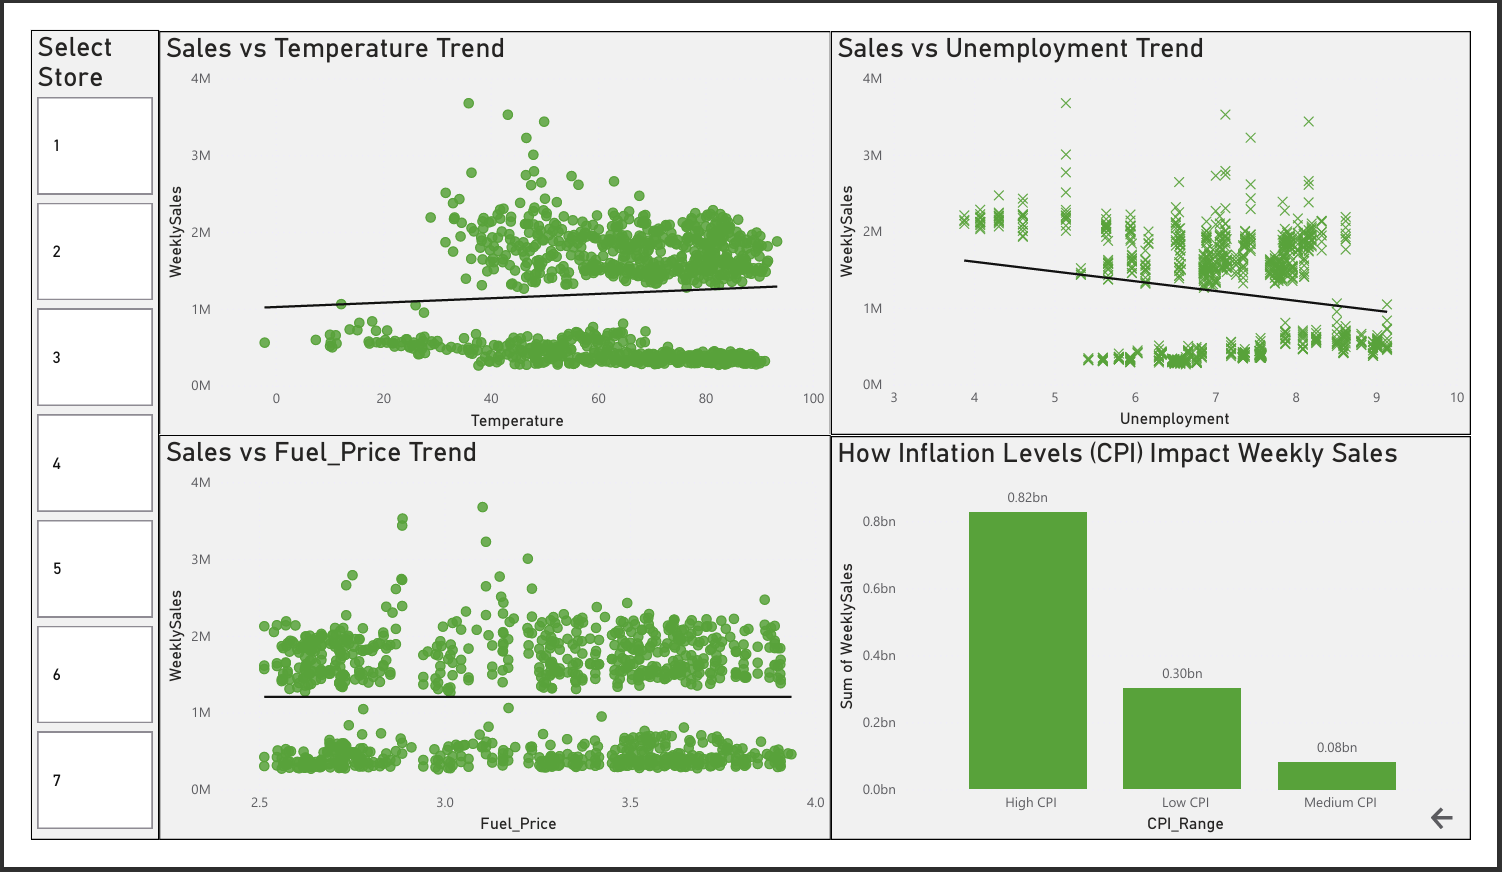

The page's visual inventory and layout, read from the dashboard file:
{"tool":"powerbi","page":{"name":"External Factors Impact","canvas":[1280,720],"ordinal":1},"visuals":[{"type":"scatterChart","title":"Sales vs Temperature Trend","fields":{"X":["cleaned_walmart_sales.Temperature"],"Y":["cleaned_walmart_sales.WeeklySales"]},"box":[113.9,1.4,596.9,359.5],"z":0},{"type":"scatterChart","title":"Sales vs Unemployment Trend","fields":{"X":["cleaned_walmart_sales.Unemployment"],"Y":["cleaned_walmart_sales.WeeklySales"]},"box":[710.8,1.4,569.5,358.1],"z":1000},{"type":"clusteredColumnChart","title":"How Inflation Levels (CPI) Impact Weekly Sales","fields":{"Y":["Sum(cleaned_walmart_sales.WeeklySales)"],"Category":["cleaned_walmart_sales.CPI_Range"]},"box":[710.8,360.9,569.5,359.5],"z":2000},{"type":"advancedSlicerVisual","title":"Select Store","fields":{"Values":["cleaned_walmart_sales.Store"]},"box":[0,0,113.9,720.4],"z":3000},{"type":"scatterChart","title":"Sales vs Fuel_Price Trend","fields":{"X":["cleaned_walmart_sales.Fuel_Price"],"Y":["cleaned_walmart_sales.WeeklySales"]},"box":[113.9,360.5,596.9,359.5],"z":4000},{"type":"actionButton","box":[1233.6,680.6,46.7,39.8],"z":5000}]}

Visuals, with their boxes on the page's 1280x720 design canvas (x1, y1, x2, y2). These are canvas units, not pixel positions in the 1502x872 screenshot, which may show the page scaled, cropped or inside an application window:
"Sales vs Temperature Trend" scatterChart: (left=114, top=1, right=711, bottom=361)
"Sales vs Unemployment Trend" scatterChart: (left=711, top=1, right=1280, bottom=360)
"How Inflation Levels (CPI) Impact Weekly Sales" clusteredColumnChart: (left=711, top=361, right=1280, bottom=720)
"Select Store" advancedSlicerVisual: (left=0, top=0, right=114, bottom=720)
"Sales vs Fuel_Price Trend" scatterChart: (left=114, top=360, right=711, bottom=720)
actionButton: (left=1234, top=681, right=1280, bottom=720)
